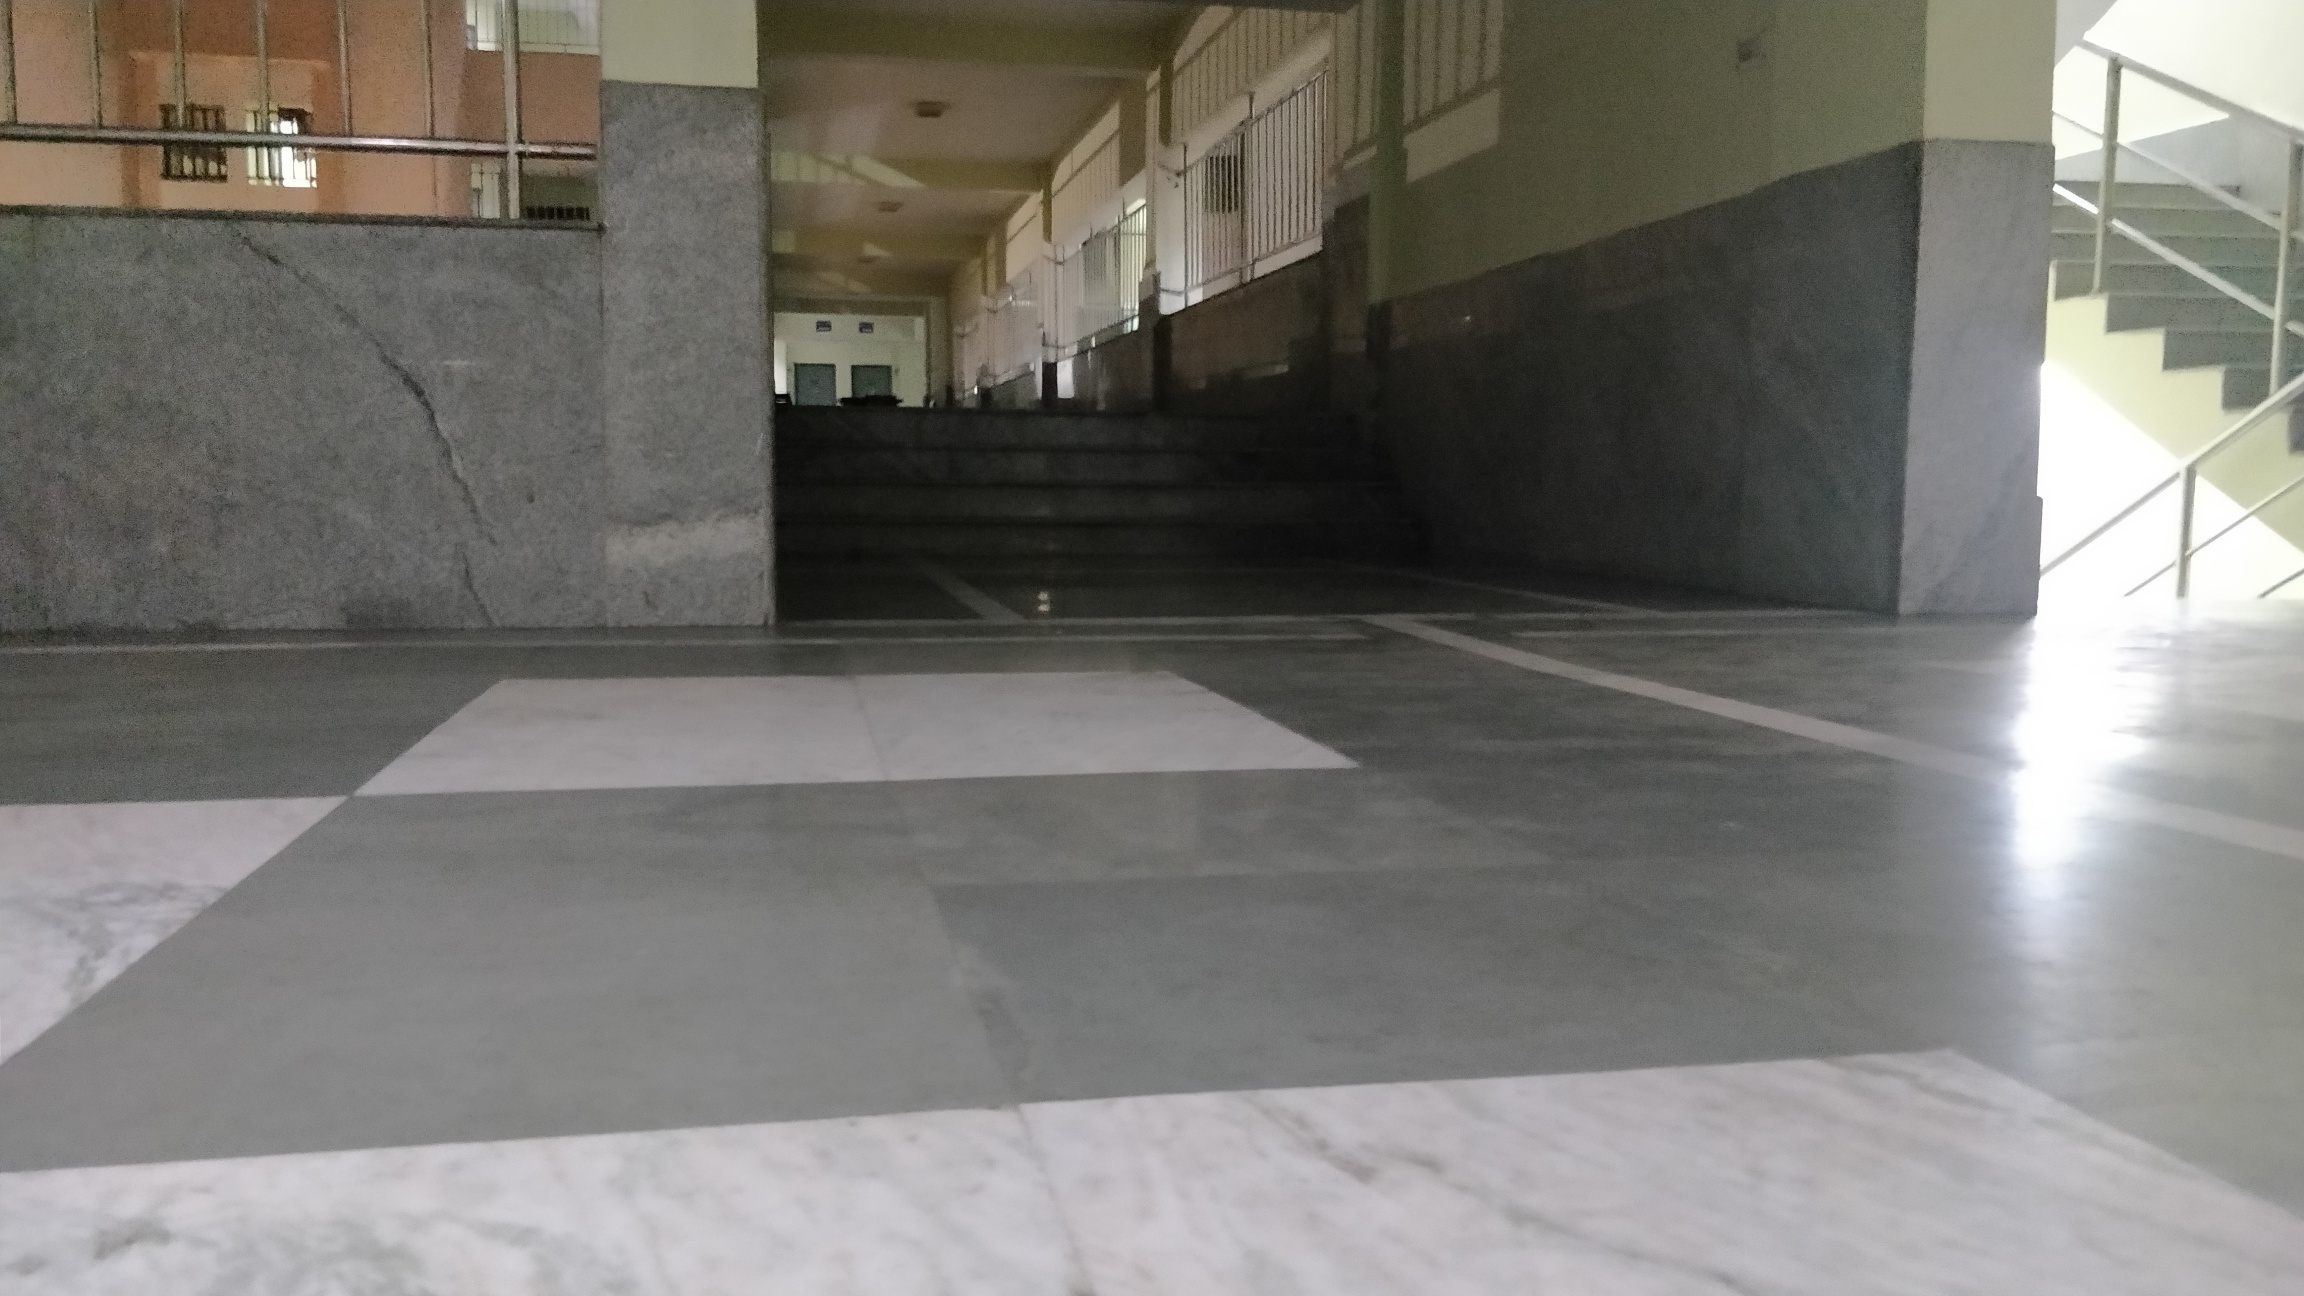stairs_up: (779, 396, 1402, 565)
